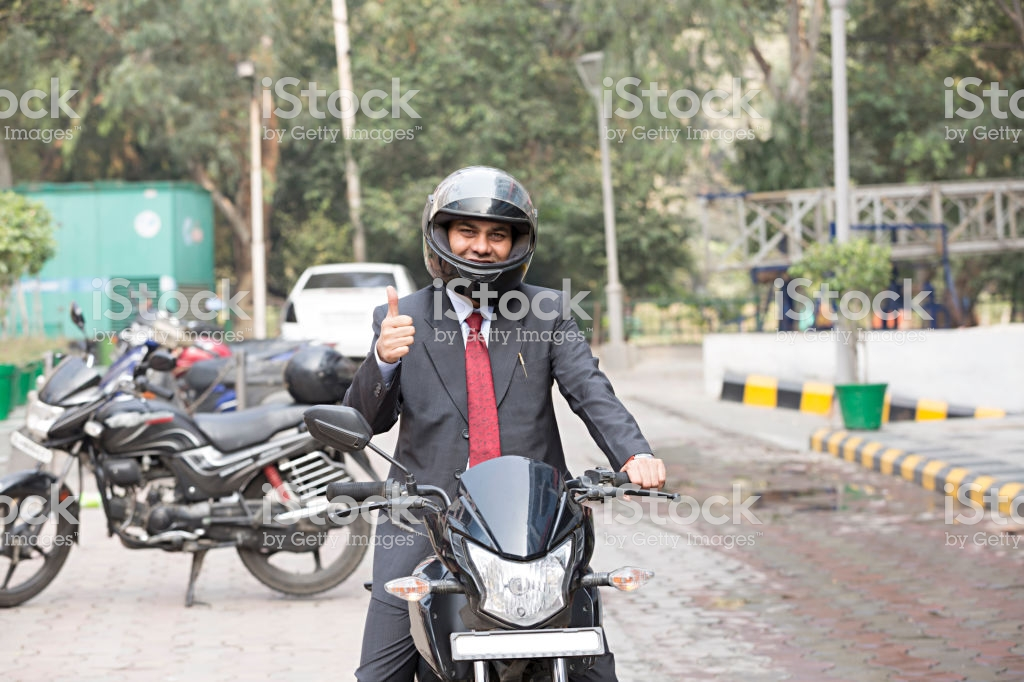helmet: (419, 171, 542, 298)
